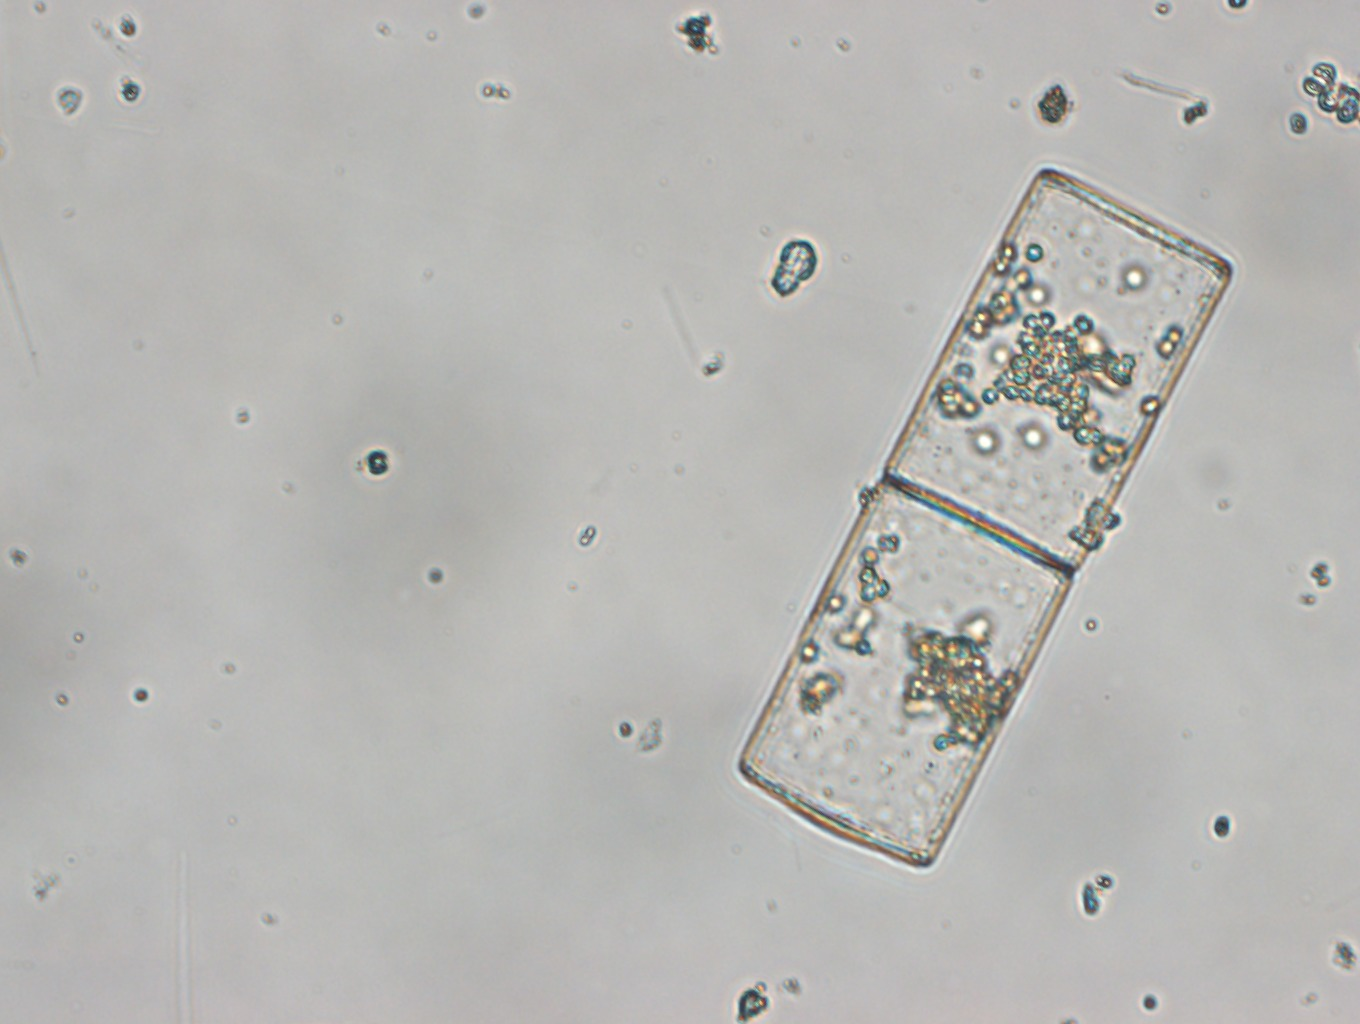guinardia flaccida: (734, 159, 1234, 882)
